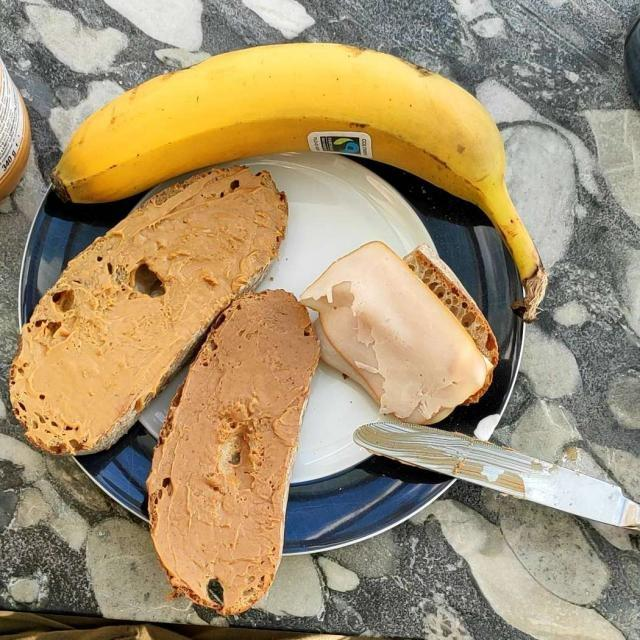banana: (58, 54, 504, 213)
bread: (12, 166, 492, 629)
butter: (461, 323, 488, 382)
meat-charcuterie: (324, 243, 493, 434)
peanut-butter: (29, 181, 304, 608)
